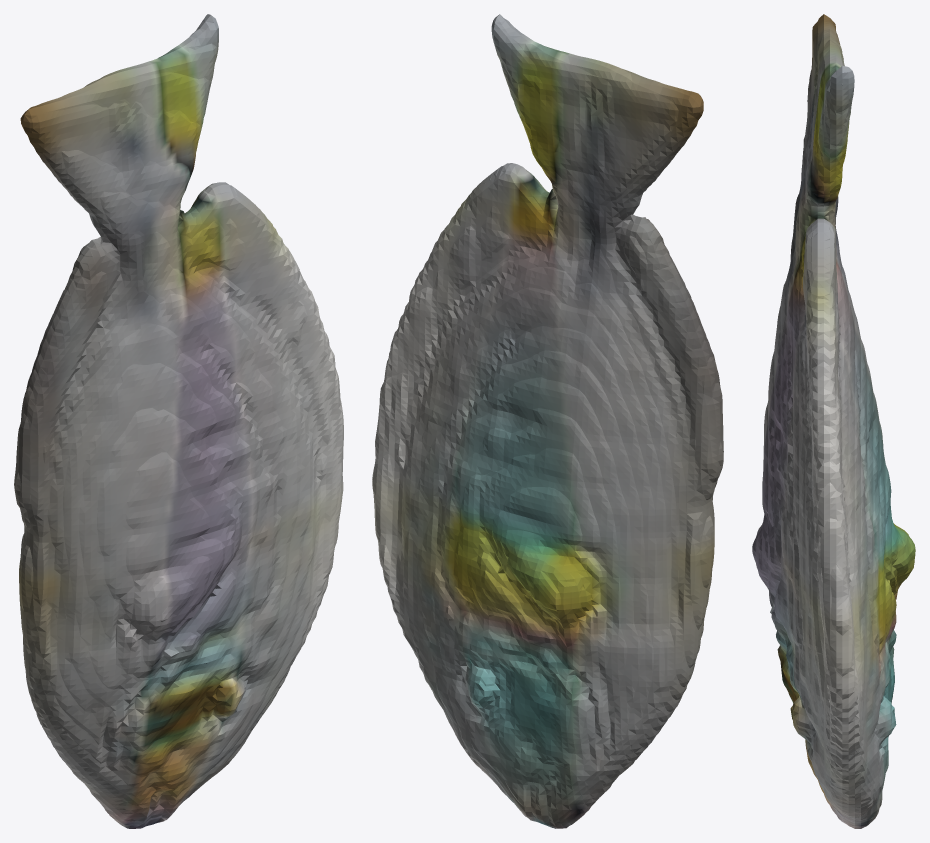
Rendered from acanthurus-auranticavus.glb.
3 renders of one model, left to right at view 1: azimuth 30°, elevation 25°; view 2: azimuth 150°, elevation 25°; view 3: azimuth 270°, elevation 25°, orthographic. The views are drawn at different scales.
Visible parts, largest first — view 1: world; view 2: world; view 3: world.
Boxes of the visible parts, <box> form: world: <box>14,14,343,828</box>; world: <box>372,14,723,828</box>; world: <box>752,14,915,828</box>.
Bounding box in the file's own units: 0.4234 × 0.956 × 0.1798.
